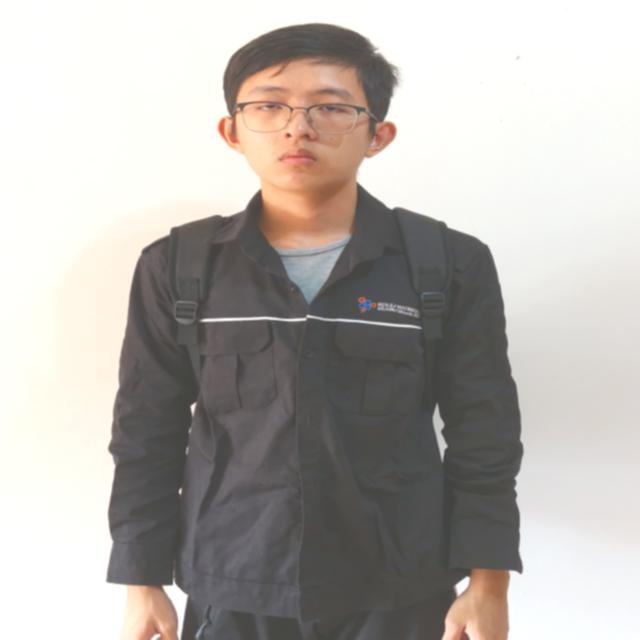person_with_labcoat: (107, 24, 522, 640)
